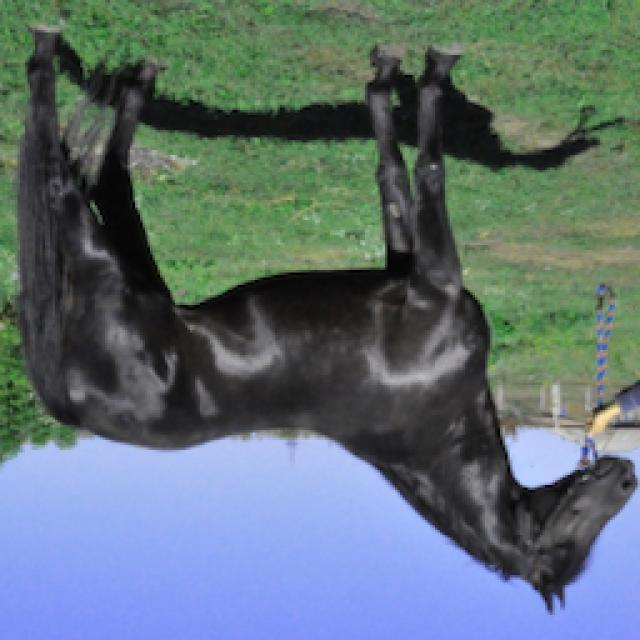Horse: (2, 15, 640, 620)
